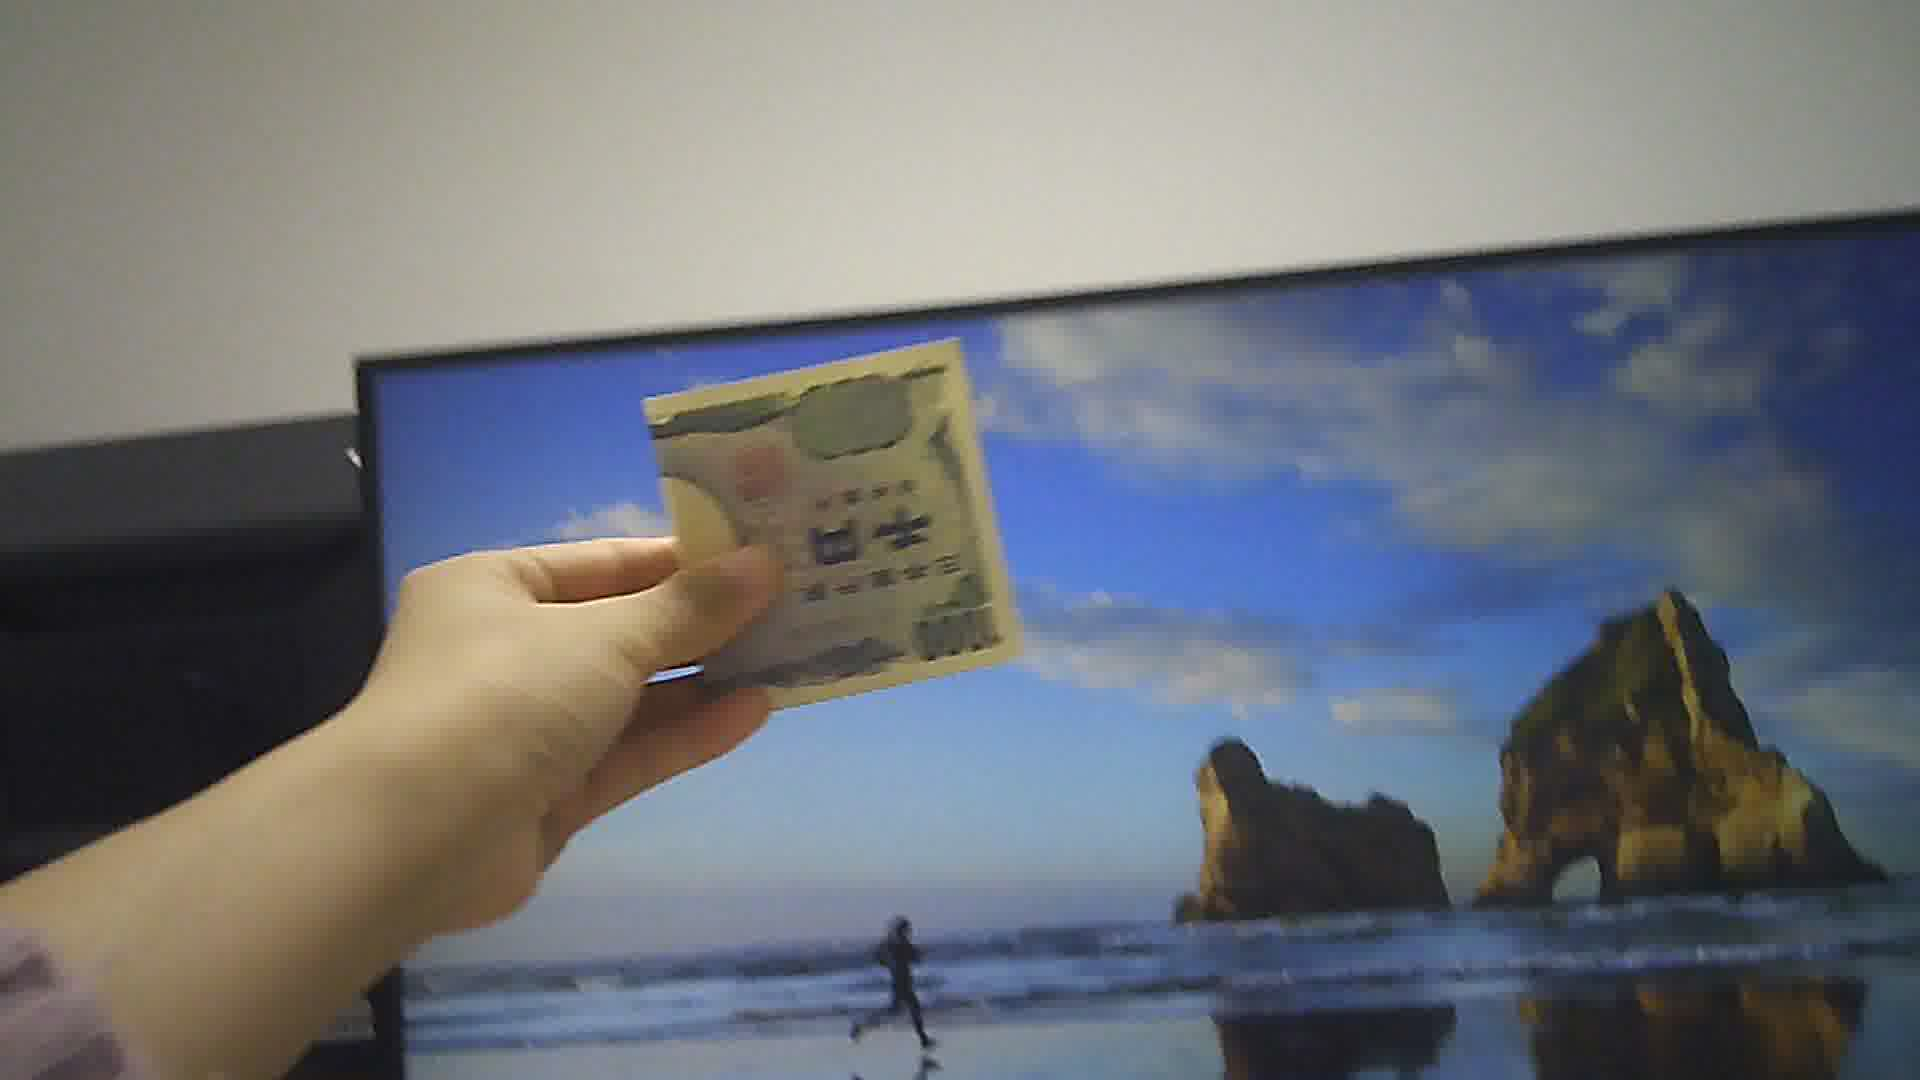1,000 Yen: (640, 356, 1047, 731)
